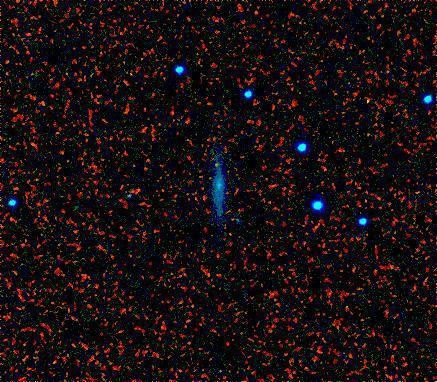star: (201, 150, 231, 180)
